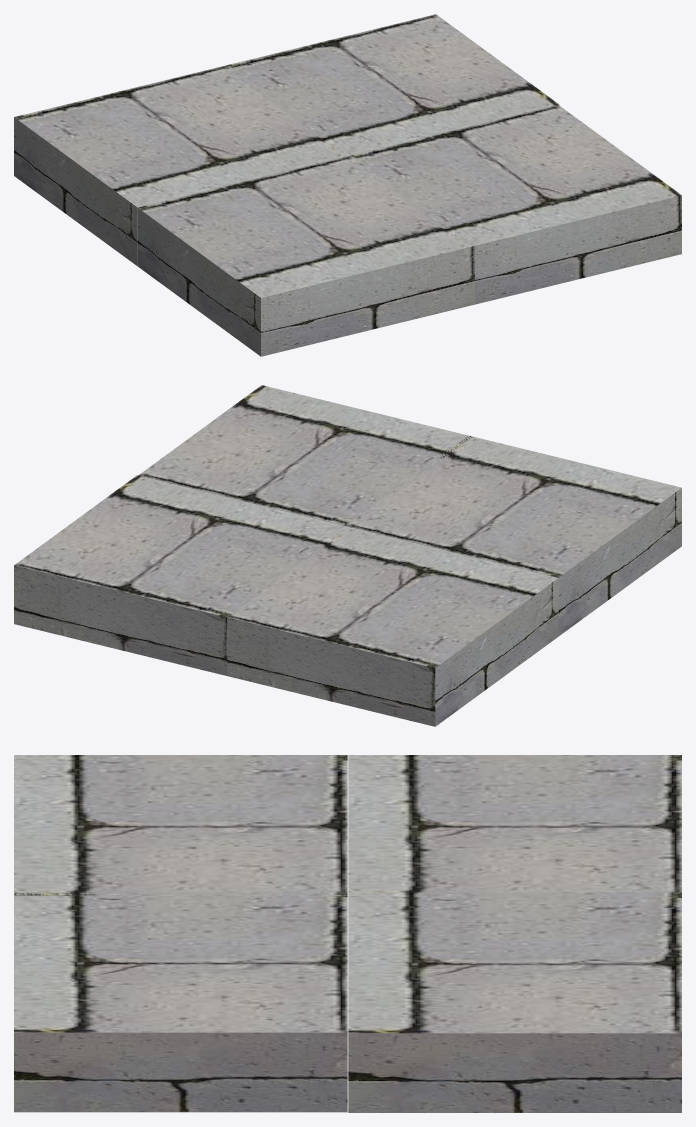
File: yuka.fbx
3 views of the same model, one above another, from view 1: azimuth 30°, elevation 25°; view 2: azimuth 150°, elevation 25°; view 3: azimuth 270°, elevation 25° (orthographic). The views are drawn at different scales.
Parts seen in each view (by area): view 1: pasted__pasted__pasted__pasted__pasted__pCube1, pasted__pasted__pasted__pasted__pCube1, pasted__pasted__pCube1, pasted__pCube1; view 2: pasted__pasted__pCube1, pasted__pCube1, pasted__pasted__pasted__pasted__pasted__pCube1, pasted__pasted__pasted__pasted__pCube1; view 3: pasted__pasted__pasted__pasted__pCube1, pasted__pCube1, pasted__pasted__pasted__pasted__pasted__pCube1, pasted__pasted__pCube1.
Boxes of the visible parts, x1,y1,x2,y2 form: pasted__pasted__pasted__pasted__pasted__pCube1: [137, 155, 474, 356]; pasted__pasted__pasted__pasted__pCube1: [351, 105, 681, 304]; pasted__pasted__pCube1: [14, 65, 345, 265]; pasted__pCube1: [224, 14, 559, 156]; pasted__pasted__pCube1: [222, 527, 558, 726]; pasted__pCube1: [14, 475, 350, 675]; pasted__pasted__pasted__pasted__pasted__pCube1: [345, 436, 681, 636]; pasted__pasted__pasted__pasted__pCube1: [138, 385, 474, 527]; pasted__pasted__pasted__pasted__pCube1: [14, 891, 347, 1112]; pasted__pCube1: [348, 892, 681, 1112]; pasted__pasted__pasted__pasted__pasted__pCube1: [14, 755, 347, 895]; pasted__pasted__pCube1: [348, 755, 681, 892].
Size of the model in its own units: 277 by 36.97 by 281.
Materials: 5 (5 with a texture image).
